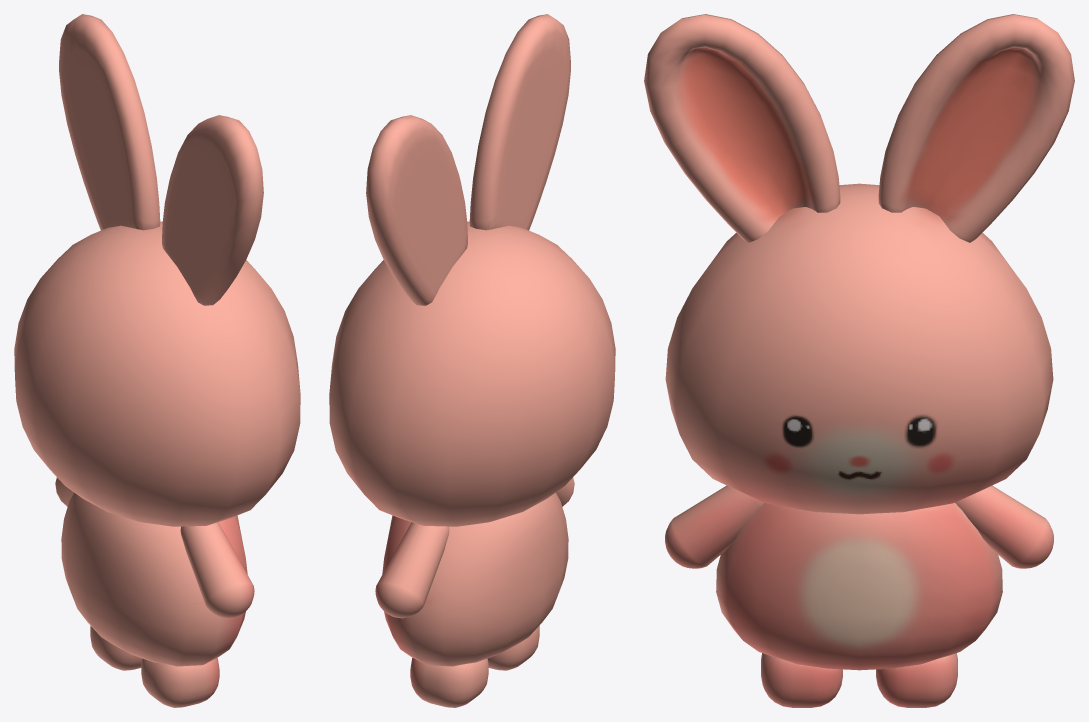
File: bunny.glb
3 renders of one model, left to right at view 1: azimuth 30°, elevation 25°; view 2: azimuth 150°, elevation 25°; view 3: azimuth 270°, elevation 25°, orthographic. The views are drawn at different scales.
Parts seen in each view (by area): view 1: Bunny; view 2: Bunny; view 3: Bunny.
Part boxes in pixels (x1=…): Bunny: x1=14, y1=14, x2=300, y2=707; Bunny: x1=329, y1=14, x2=615, y2=707; Bunny: x1=644, y1=14, x2=1074, y2=707.
Size of the model in its own units: 0.9421 by 2.28 by 1.29.
Materials: 1 (1 with a texture image).
